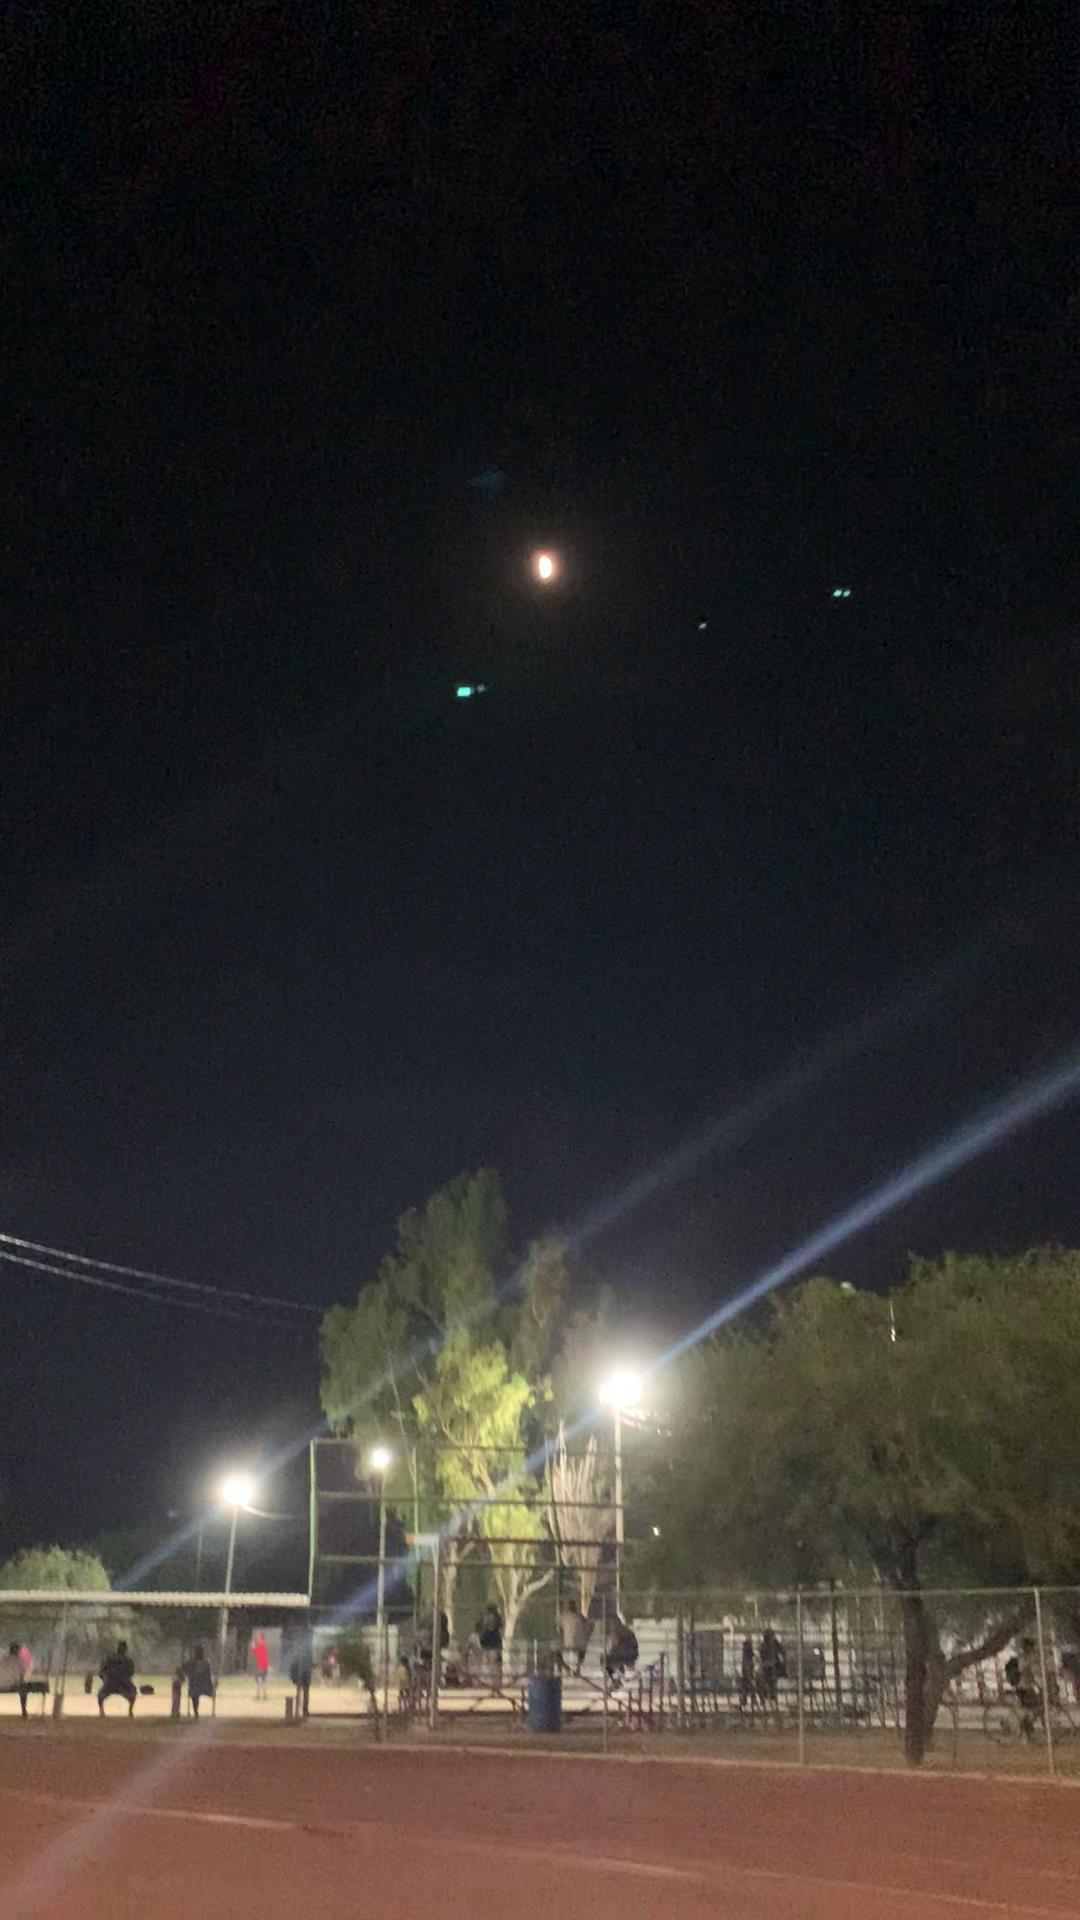moon: (514, 529, 583, 595)
